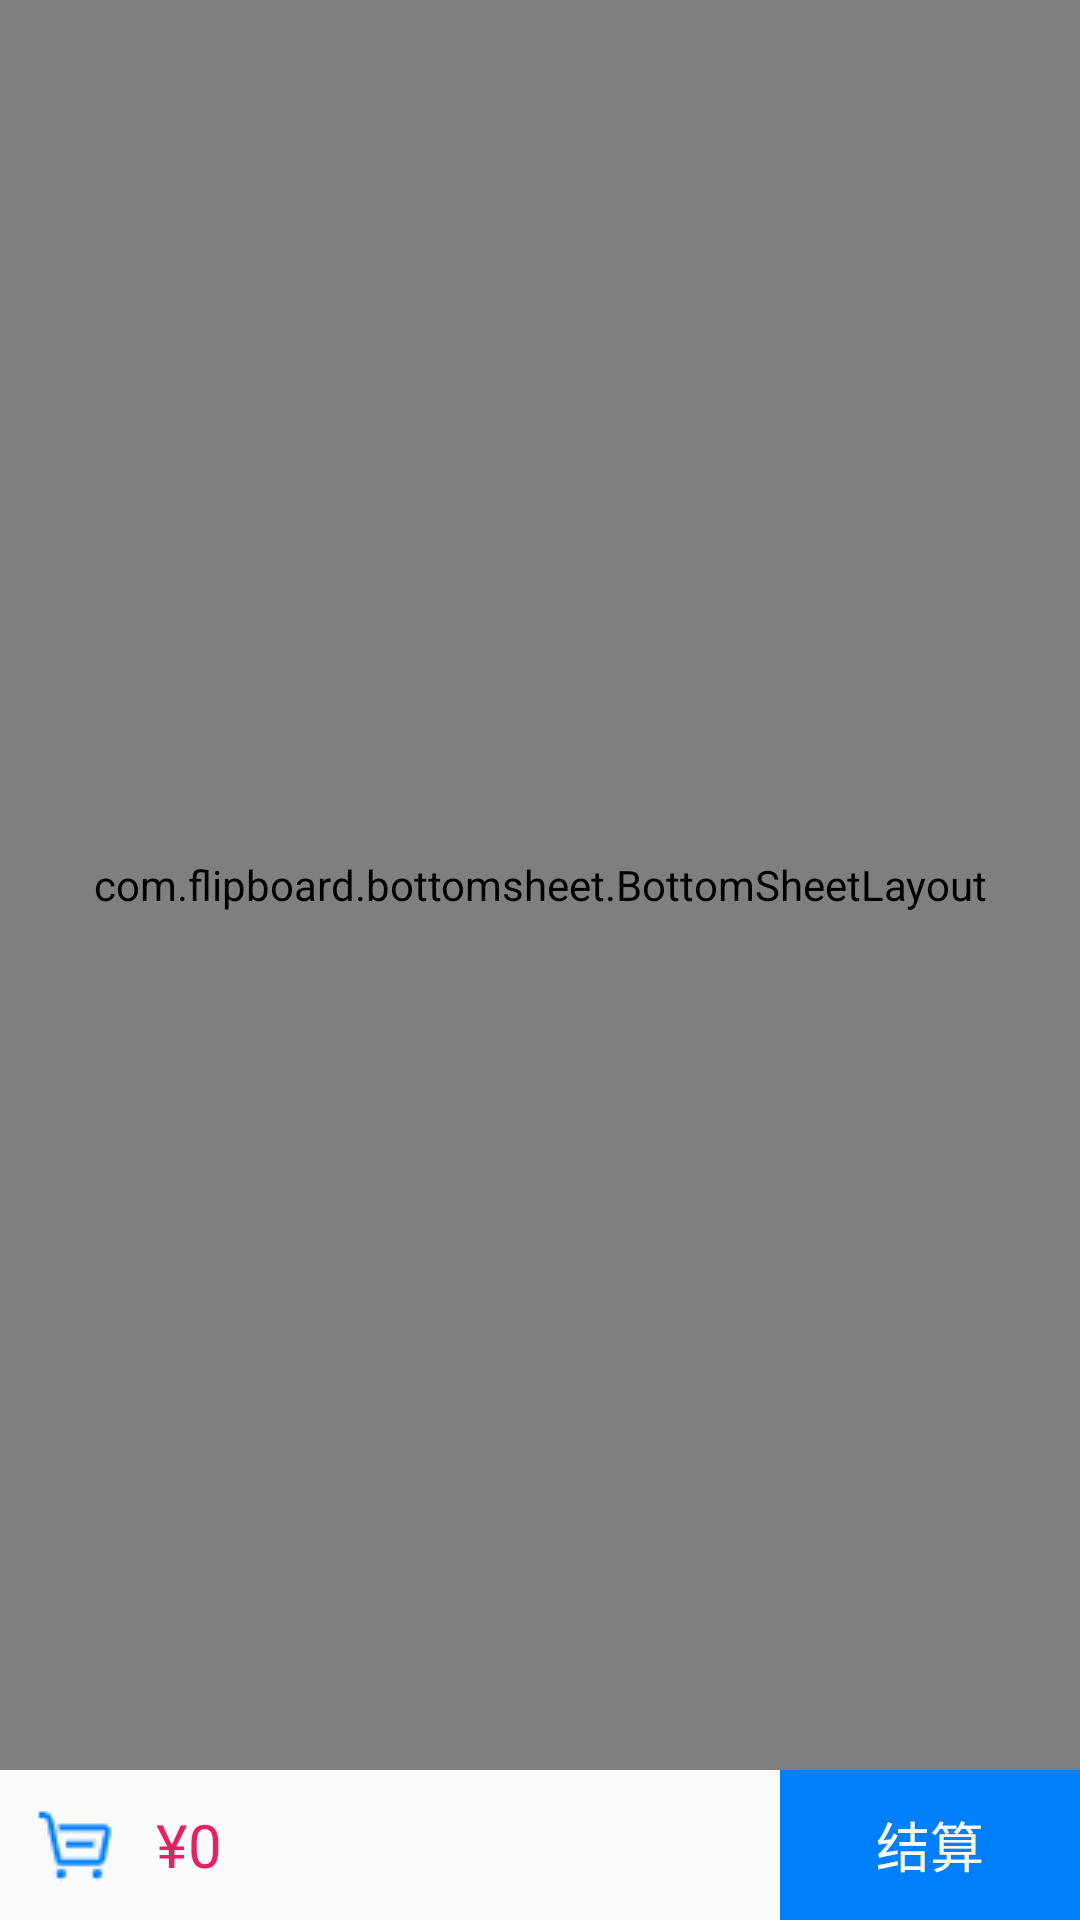

Locate icon controls on the screen. Image size 1080px x 1920px, boxes as Rect(x1, y1, x2, y2).
cart: Rect(38, 1811, 112, 1880)
